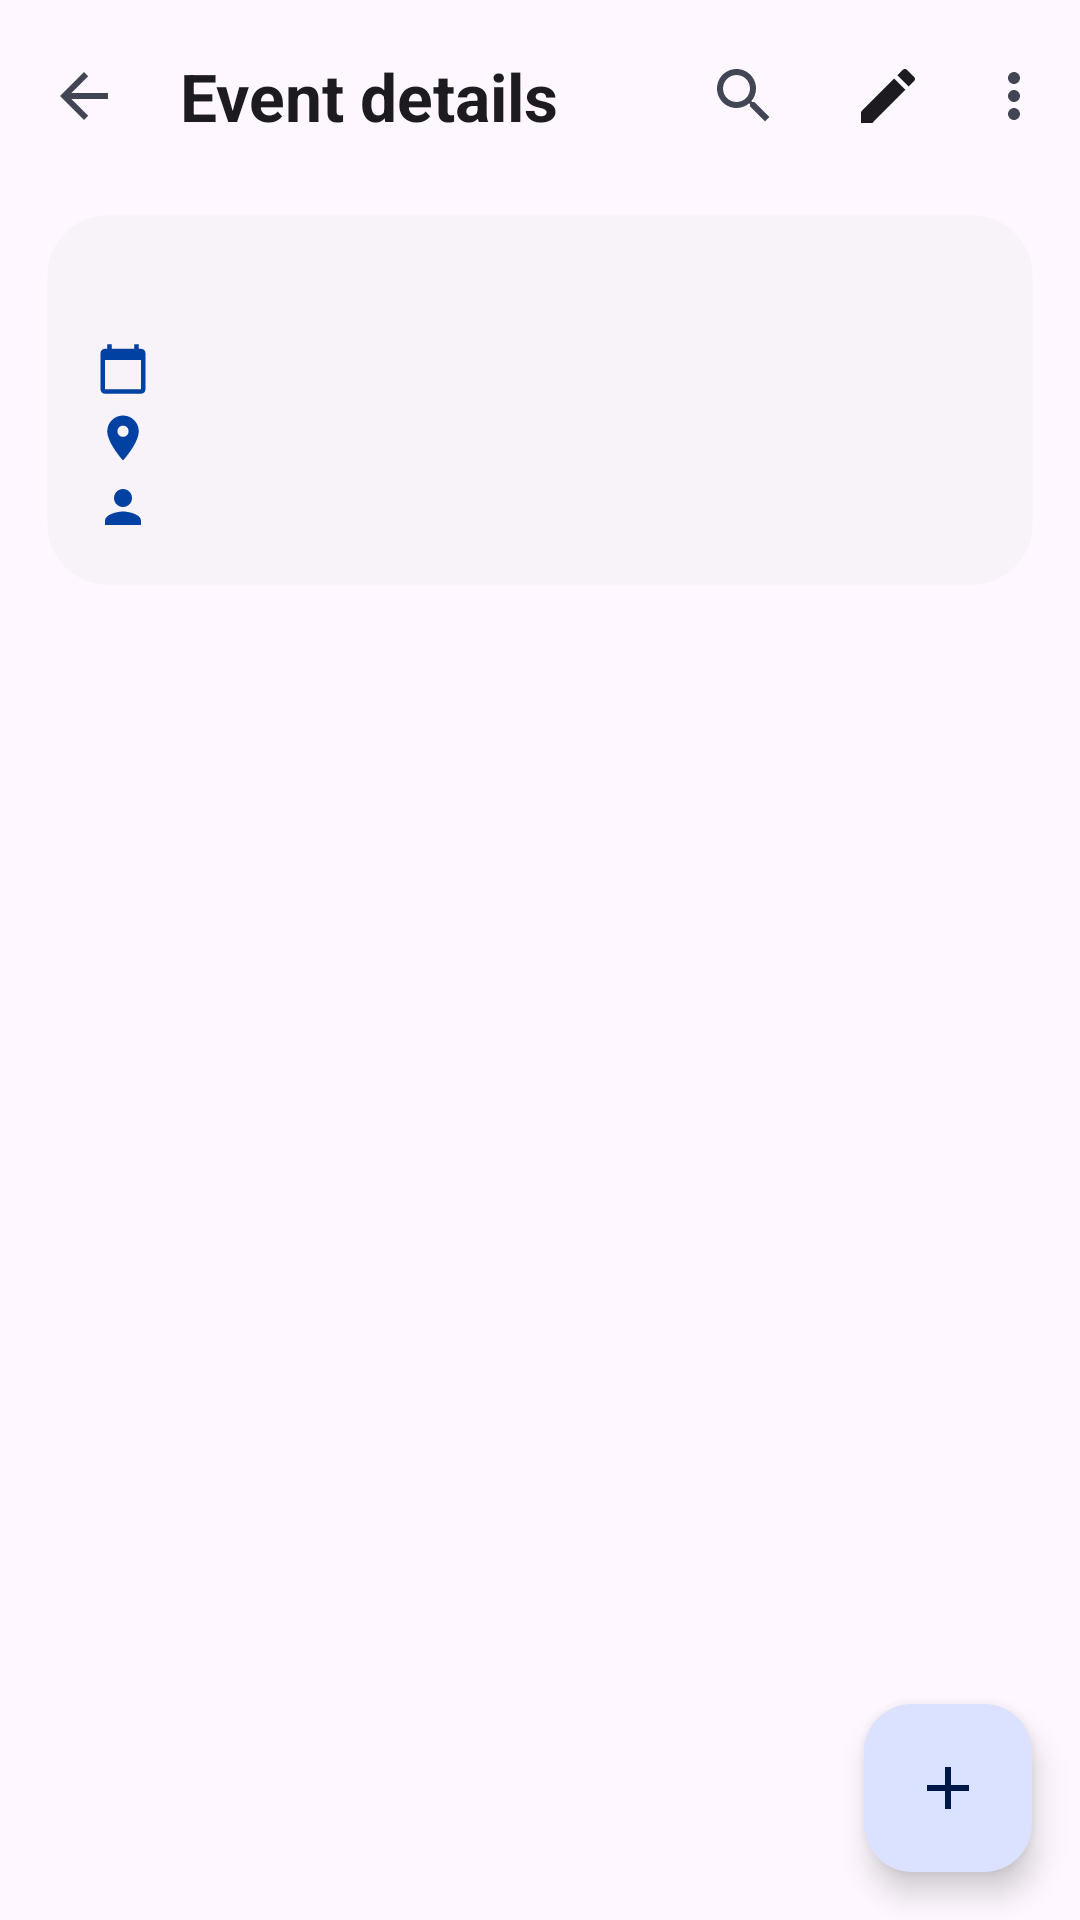

Screen size 1080px x 1920px. Icon name, then its box in pixels as [x1, y1, x2, y2]:
Add session: [864, 1704, 1032, 1872]
